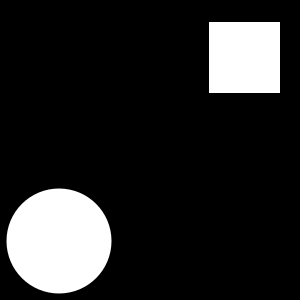circle: (209, 22, 280, 93)
rectangle: (6, 189, 112, 294)
